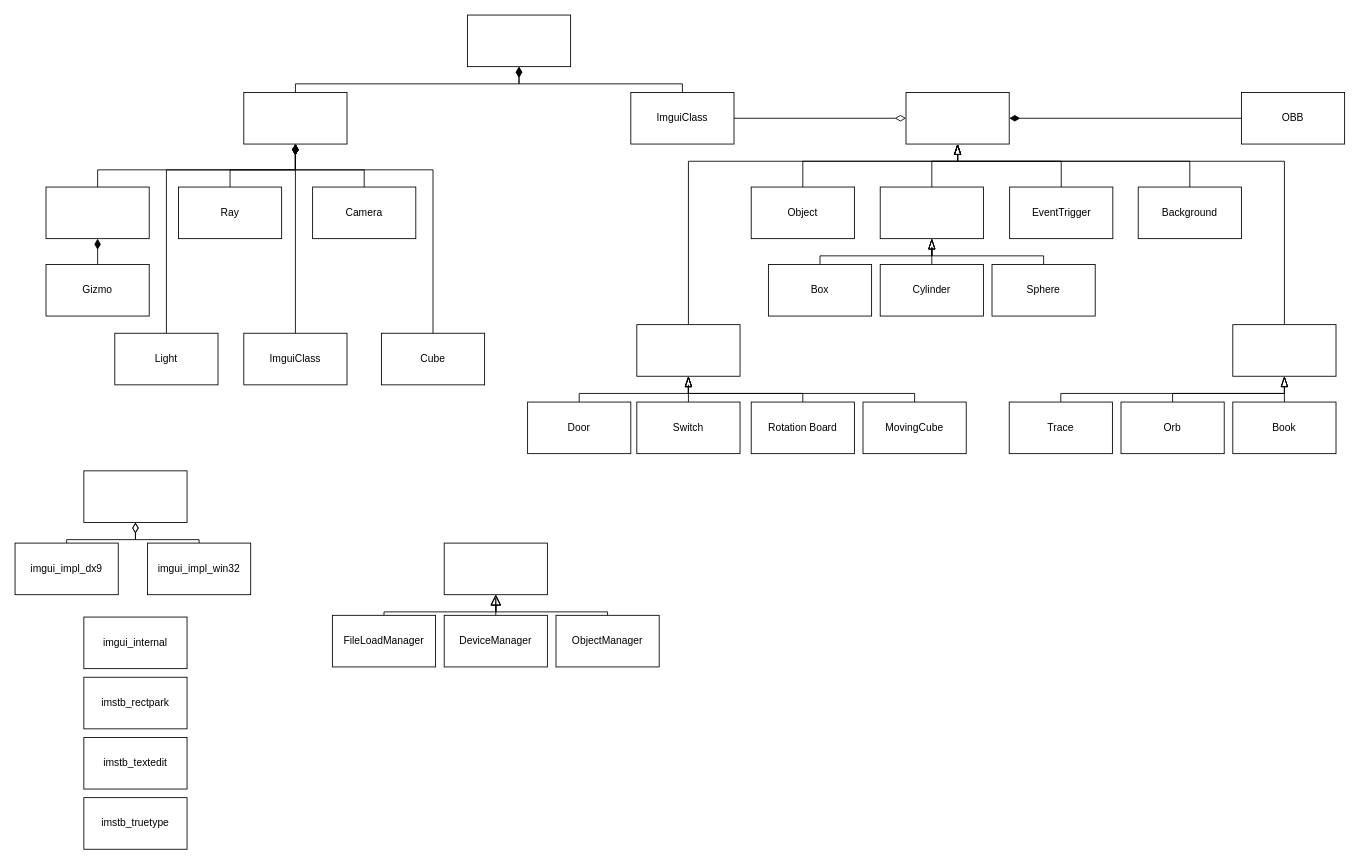
Image size: 1360x864. Some labels were removed from this diagram. Here are the shapes that lost their labels. From the top down, the centre of each, then its label:
(519,40): originMain
(295,118): toolMain
(957,118): <Interface> IObject
(97,212): Grid
(931,212): Tile
(688,350): Gimmick
(1284,350): Item
(135,496): imgui
(495,568): <Interface Template> Singleton
